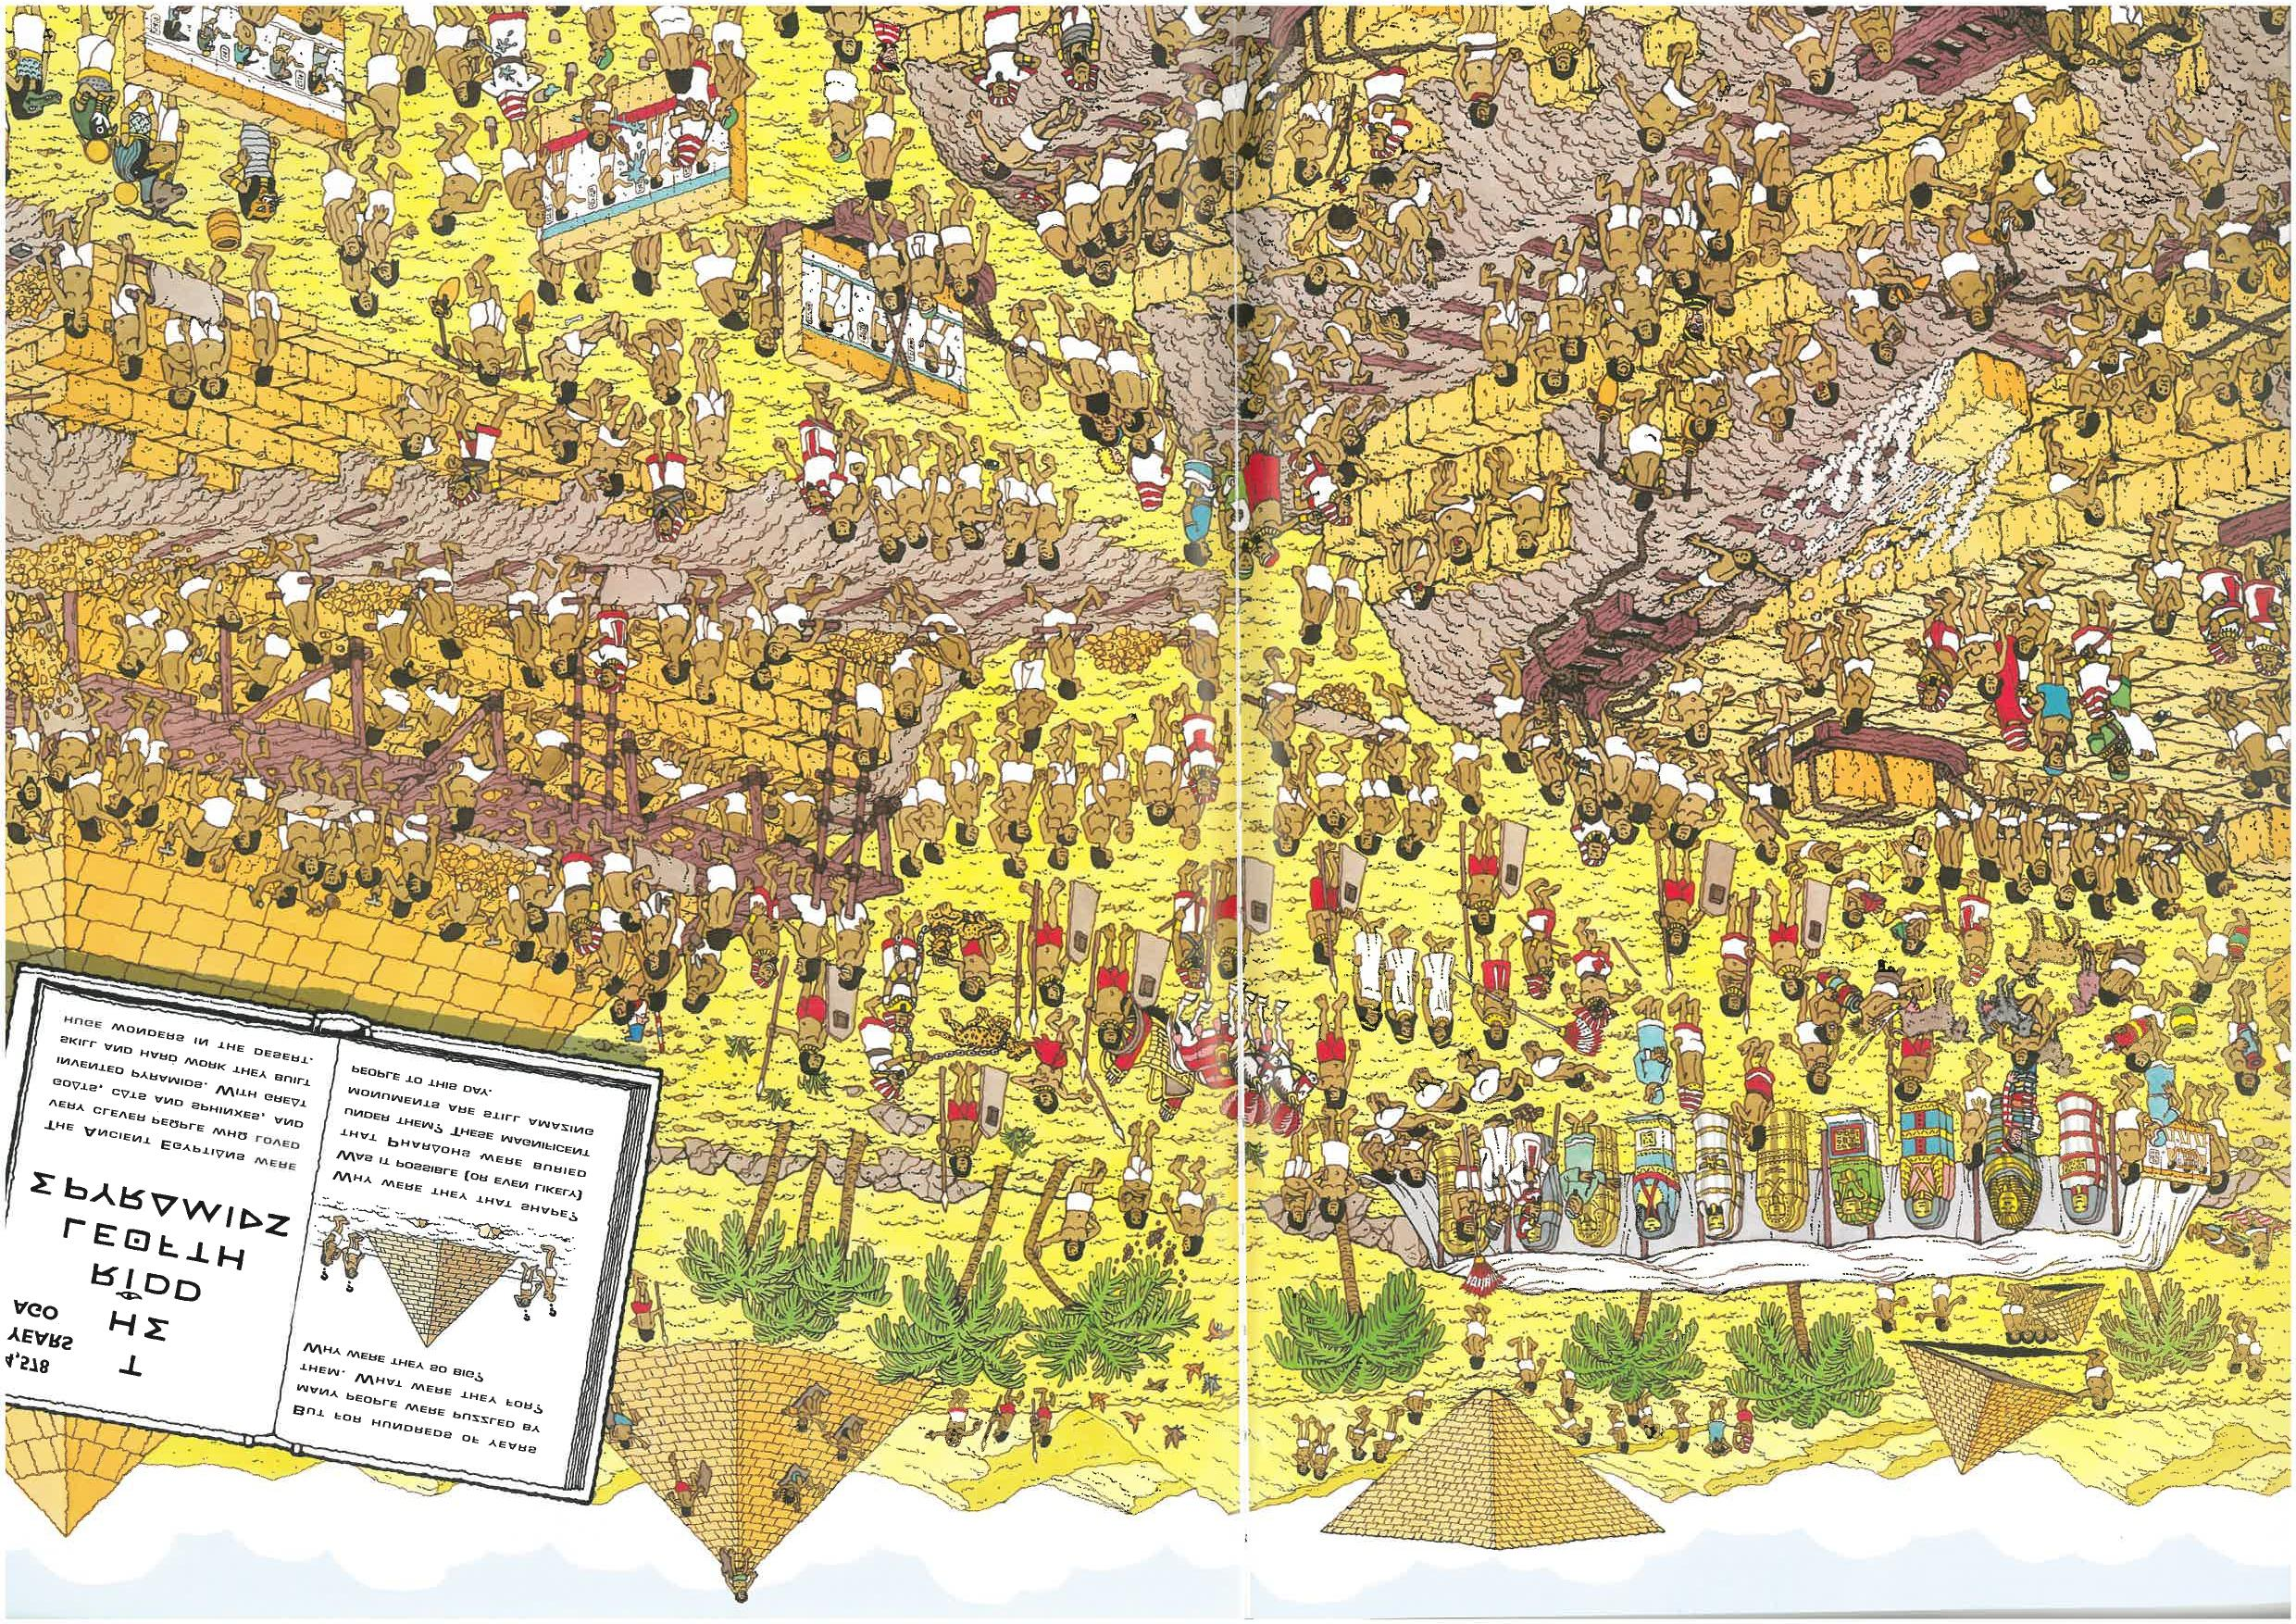waldos: (1994, 1056, 2047, 1156)
